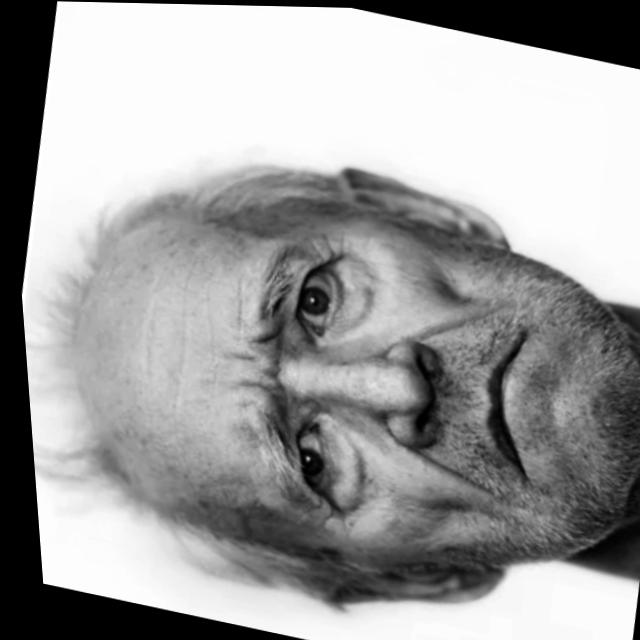sad: (123, 111, 640, 640)
